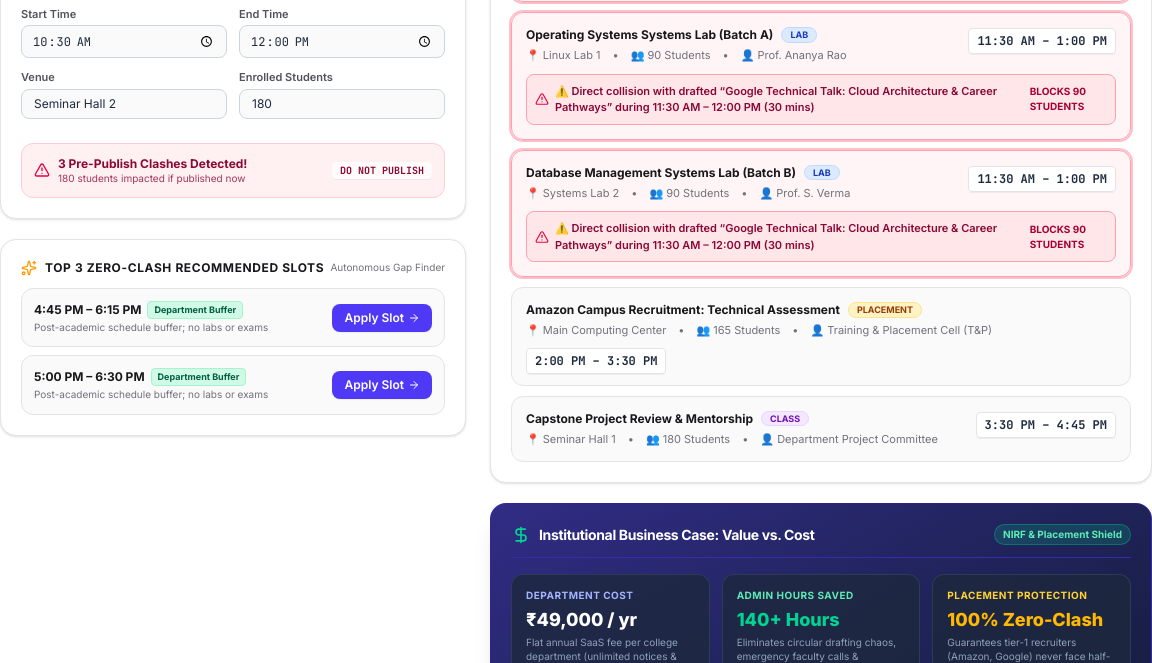
Test: B2BAdminSandbox (Monetization & Pre-Publish Validator) › recommends Top 3 zero-clash slots and updates draft when 'Apply Slot' is clicked
(page scrolled)
Expected: the heading "Top 3 Zero-Clash Recommended Slots" is shown, x1=45 y1=260 x2=324 y2=276
# Apply the first zero-clash recommended slot
Click the button "Apply Slot" in the row of "4:45 PM – 6:15 PM": (382, 318) x1=332 y1=304 x2=432 y2=332
(page scrolled)
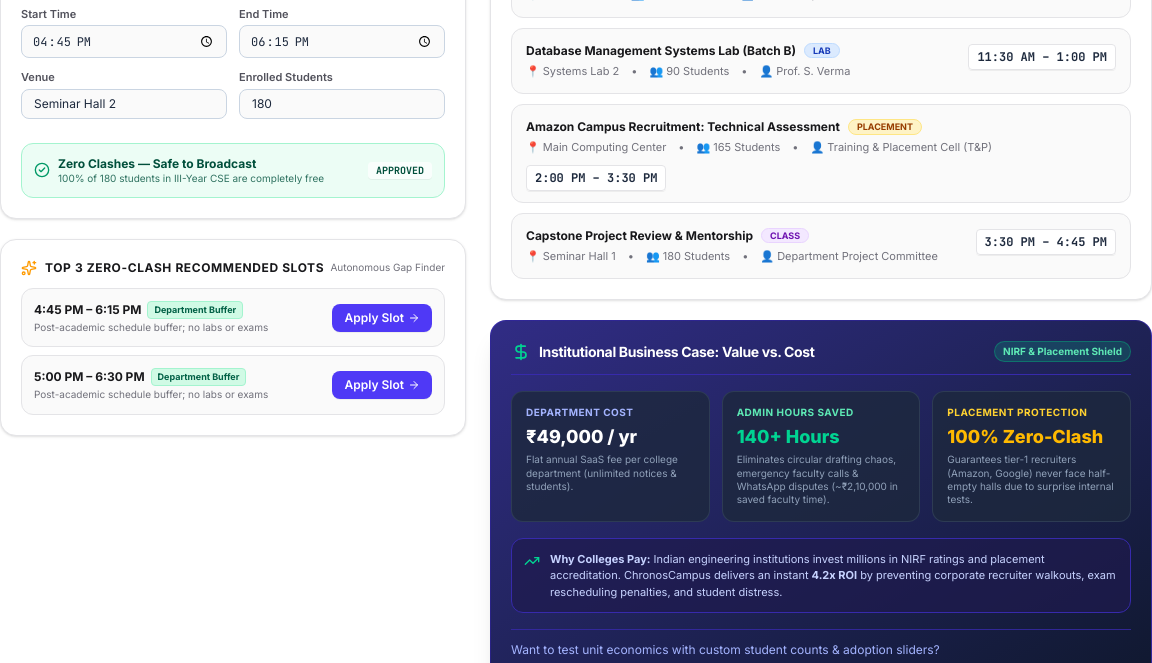
Expected: the text "Zero Clashes — Safe to Broadcast" is shown, x1=58 y1=156 x2=256 y2=170
Expected: the text "APPROVED" is shown, x1=368 y1=162 x2=432 y2=179
Expected: the text "100% of 180 students in III-Year CSE are completely free" is shown, x1=58 y1=172 x2=324 y2=185
